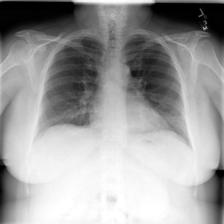normal: (30, 26, 196, 154)
